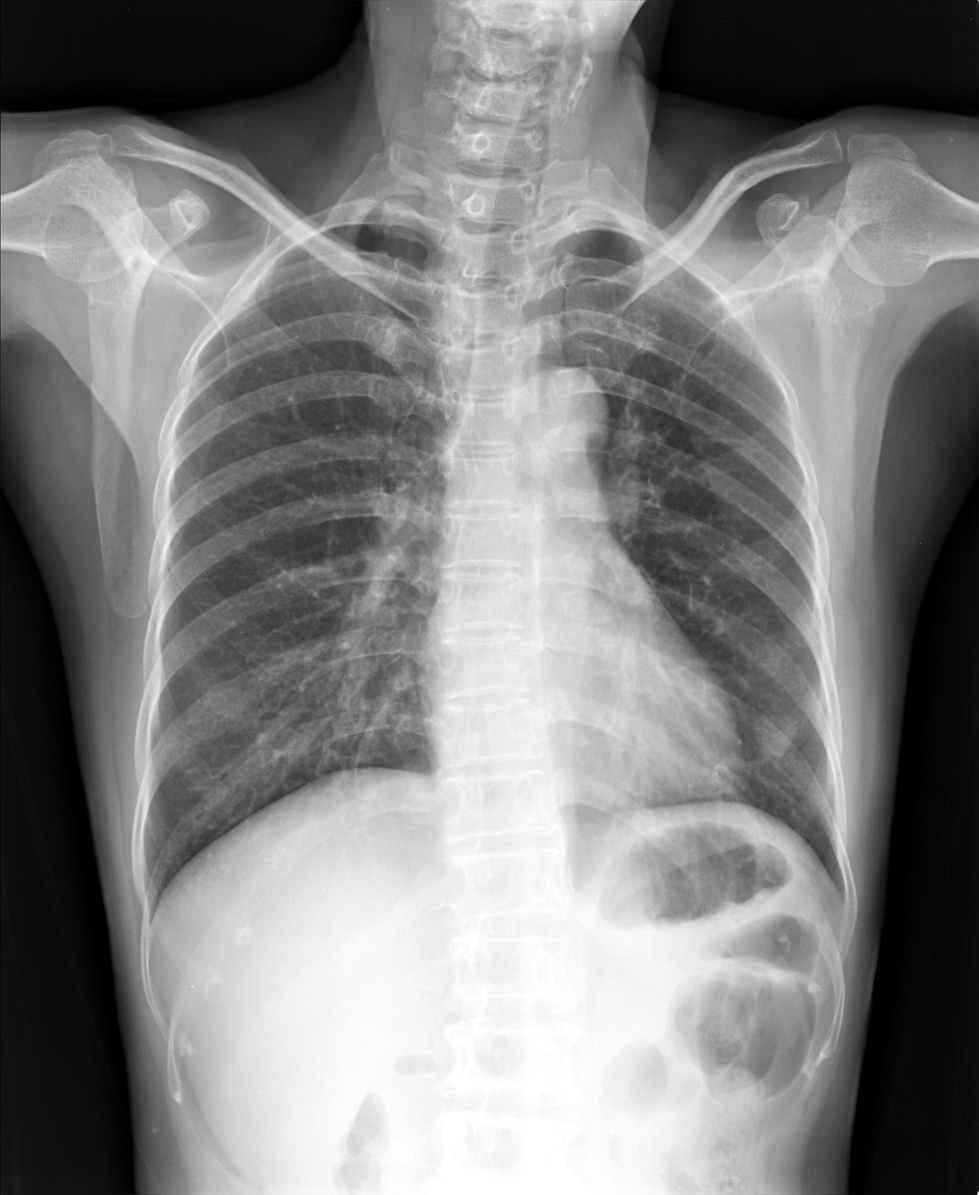Aortic enlargement: (492, 364, 614, 474)
Pleural thickening: (365, 217, 442, 256)
